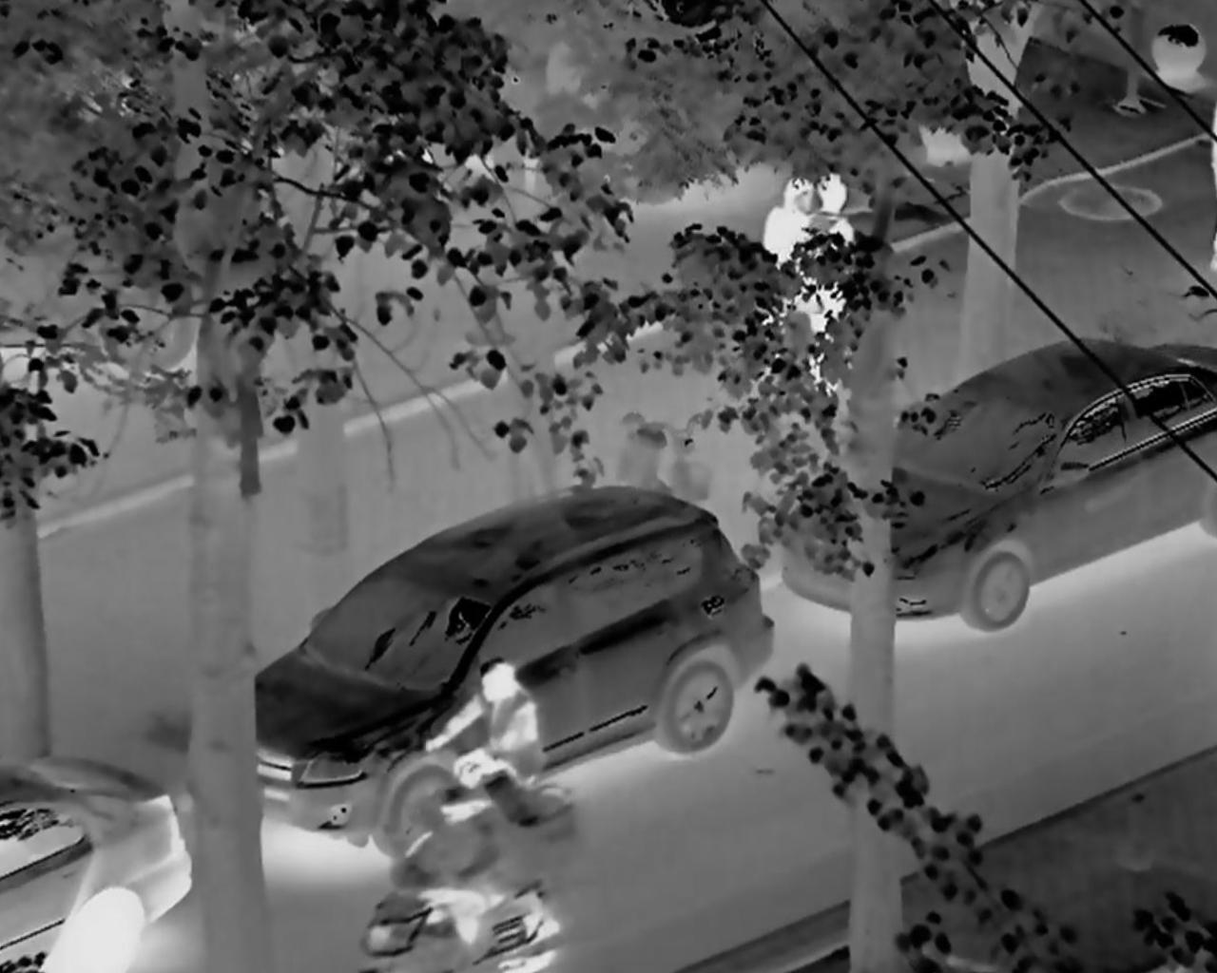person: (384, 656, 612, 864), (739, 158, 821, 367), (812, 166, 866, 354)
